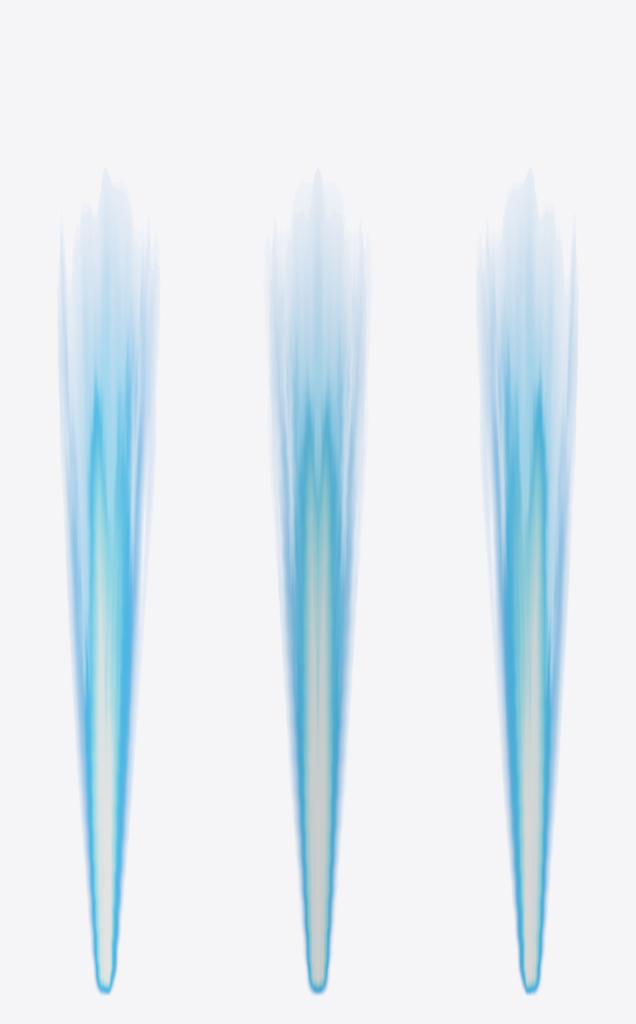
File: trail_flame_frost.glb
3 renders of one model, left to right at view 1: azimuth 30°, elevation 25°; view 2: azimuth 150°, elevation 25°; view 3: azimuth 270°, elevation 25°, orthographic.
Visible parts, largest first — view 1: flame; view 2: flame; view 3: flame.
Boxes of the visible parts, <box> form: flame: <box>61,224,152,994</box>; flame: <box>272,224,363,994</box>; flame: <box>483,224,574,994</box>.
Size of the model in its own units: 11.8 by 58 by 10.22.
Materials: 1 (1 with a texture image).
